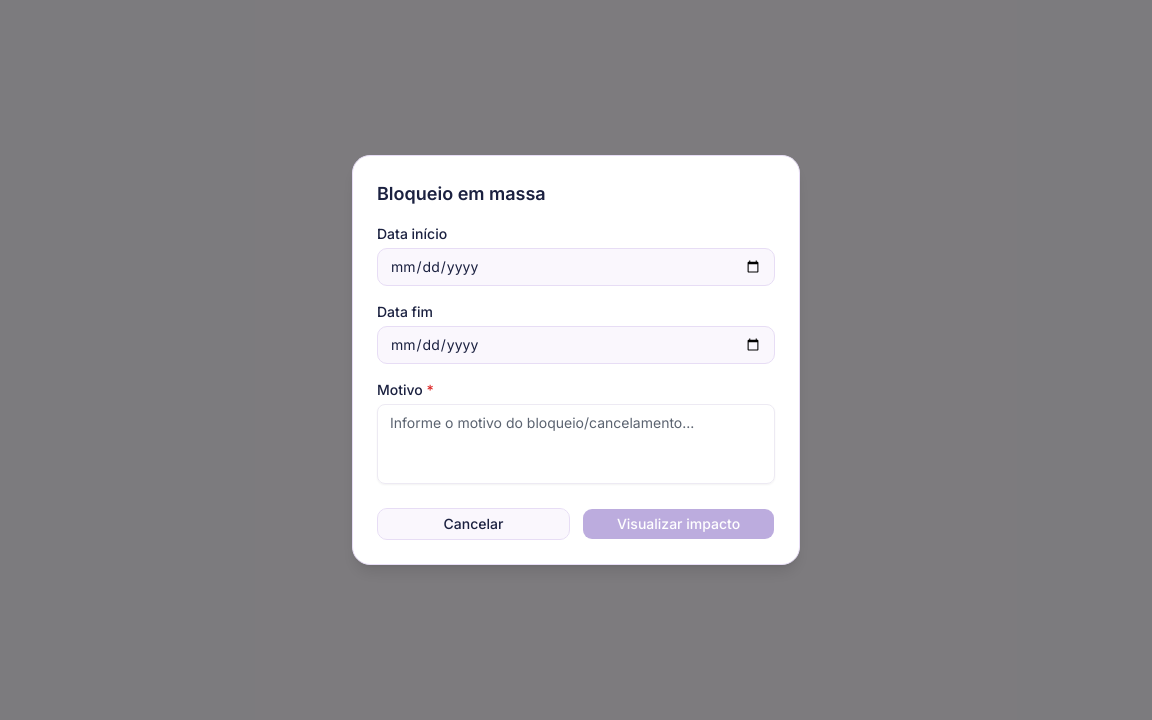
Test: BulkBlockModal — previa real (item 008) › deve exibir os contadores devolvidos pela API e liberar a confirmacao
Type "2026-04-01" into the date field with test id "modal-bulk-block-start-input".
click(576, 267); type("2026-04-01")  # box [377,248,775,286]
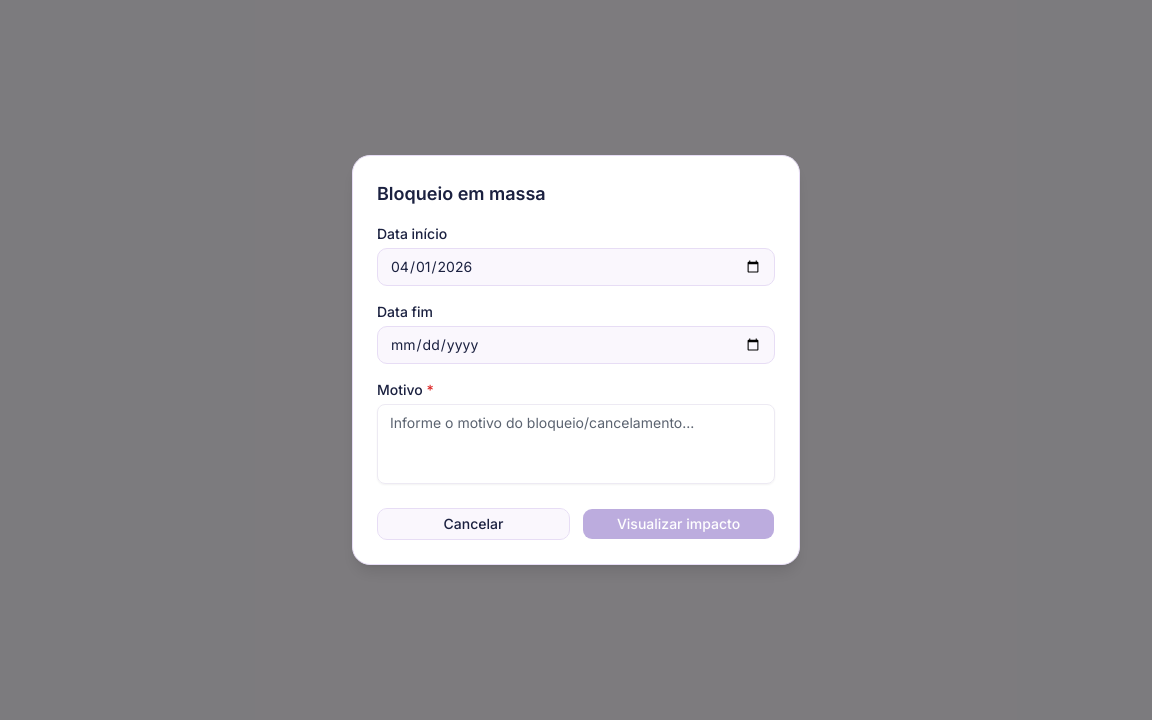
Type "2026-04-30" into the date field with test id "modal-bulk-block-end-input".
click(576, 345); type("2026-04-30")  # box [377,326,775,364]
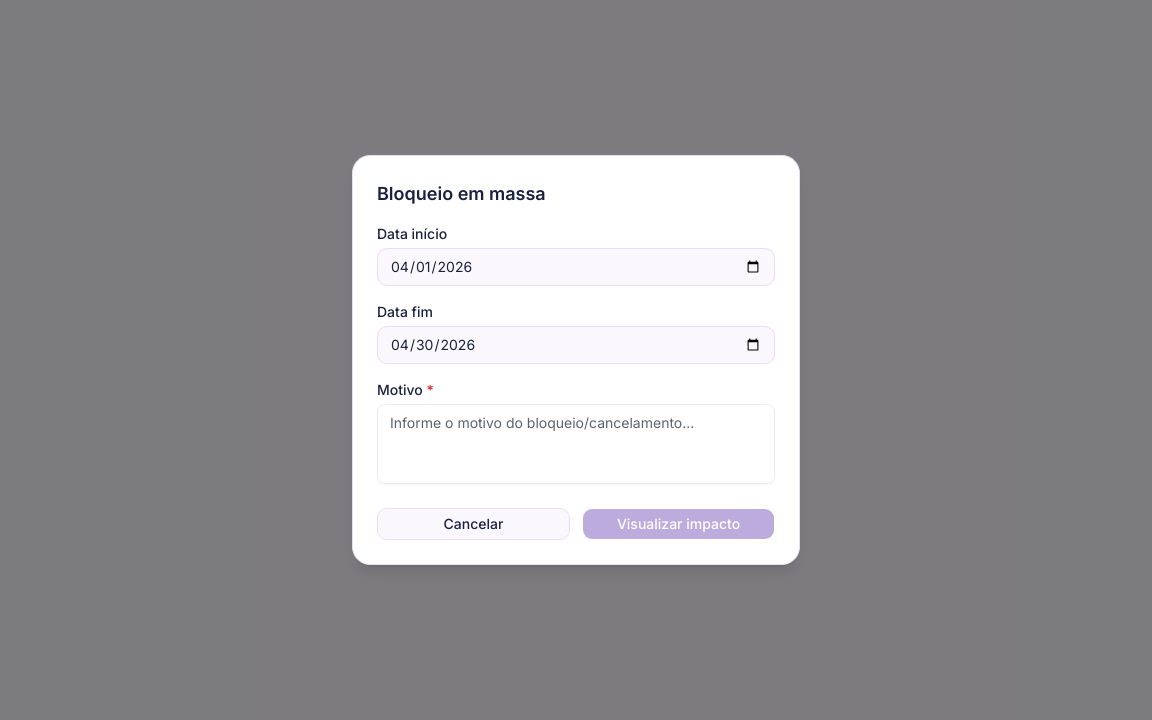
Type "Ferias do professor" into the text box with test id "modal-bulk-block-reason-input".
click(576, 444); type("Ferias do professor")  # box [377,404,775,484]
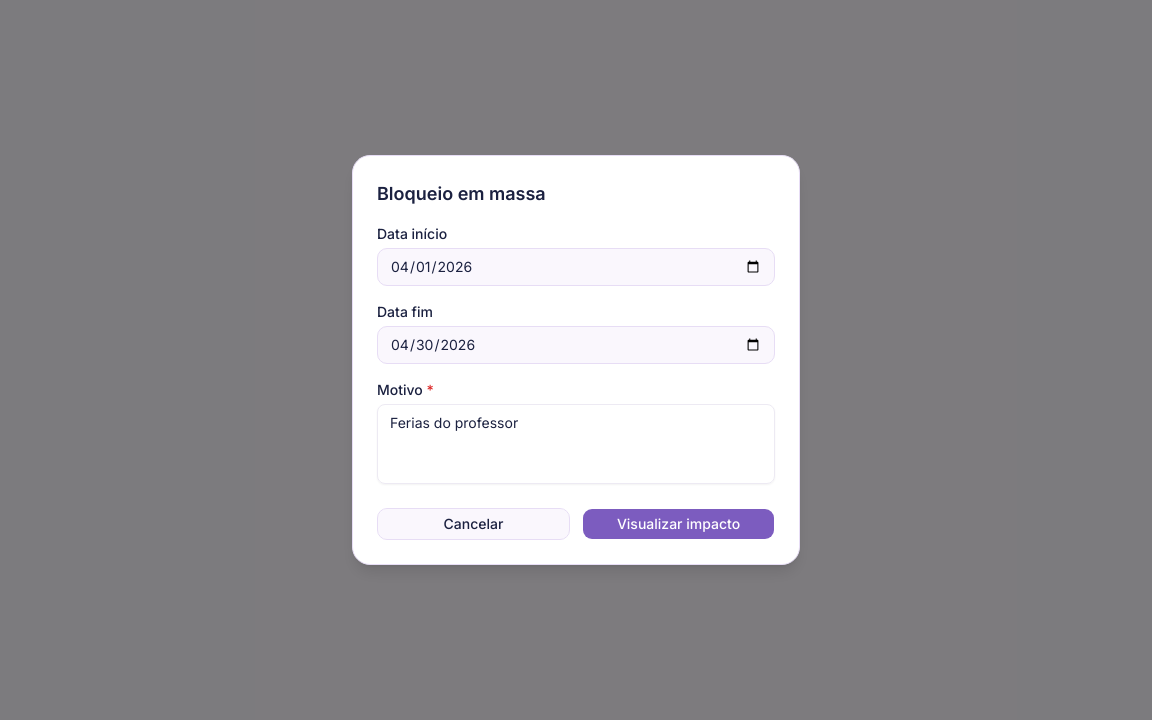
Click the button with test id "modal-bulk-block-preview-button".
click(678, 524)  # box [582,508,775,540]
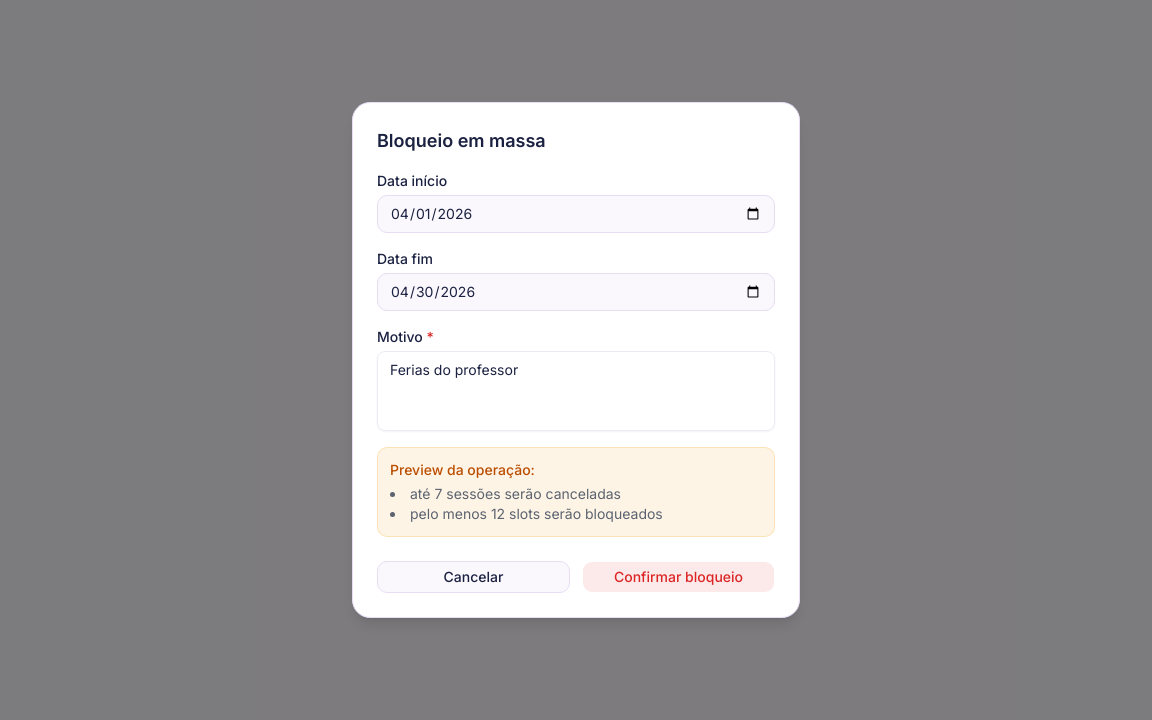
Now the element with test id "modal-bulk-block-preview" shows "7 sessões serão canceladas", box [410,485,621,502]
Now the element with test id "modal-bulk-block-preview" shows "12 slots serão bloqueados", box [410,505,663,522]
Now the button with test id "modal-bulk-block-confirm-button" is shown, box [582,561,775,593]
